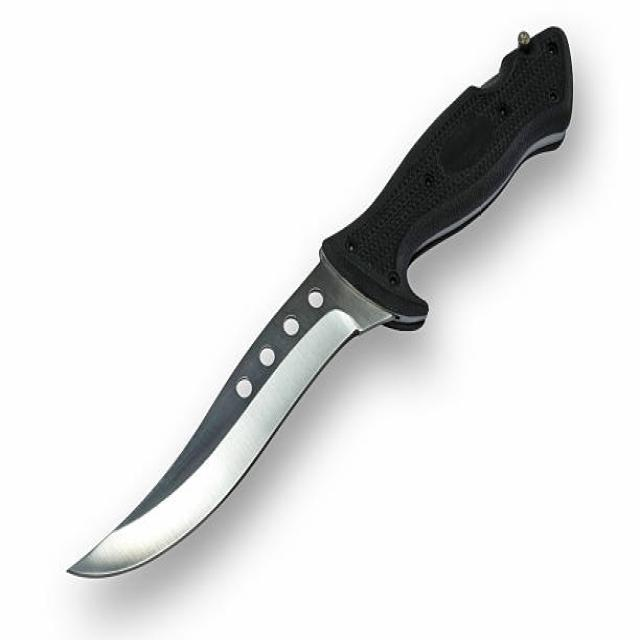knife: (56, 1, 588, 616)
